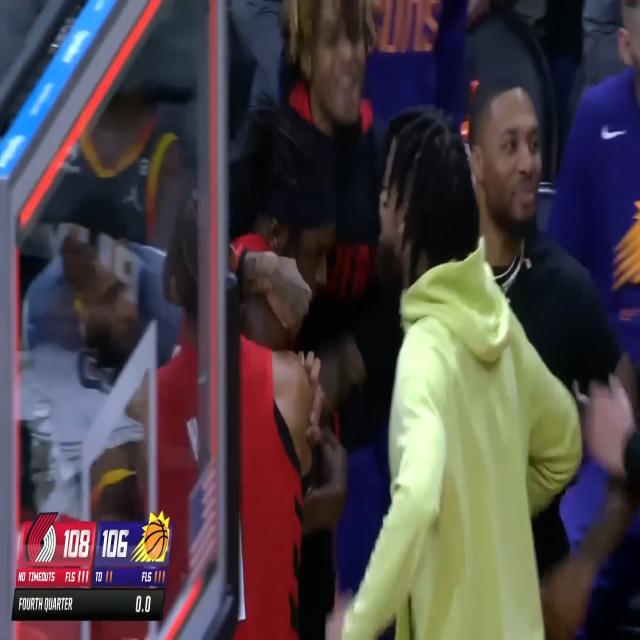Period: (16, 593, 74, 614)
Player: (132, 180, 316, 640), (230, 92, 336, 343)
Team Points: (100, 524, 132, 562), (63, 524, 91, 562)
Time Remaining: (133, 591, 154, 616)
